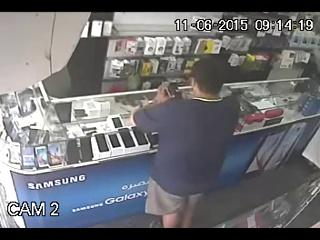Normal: (132, 56, 241, 226)
